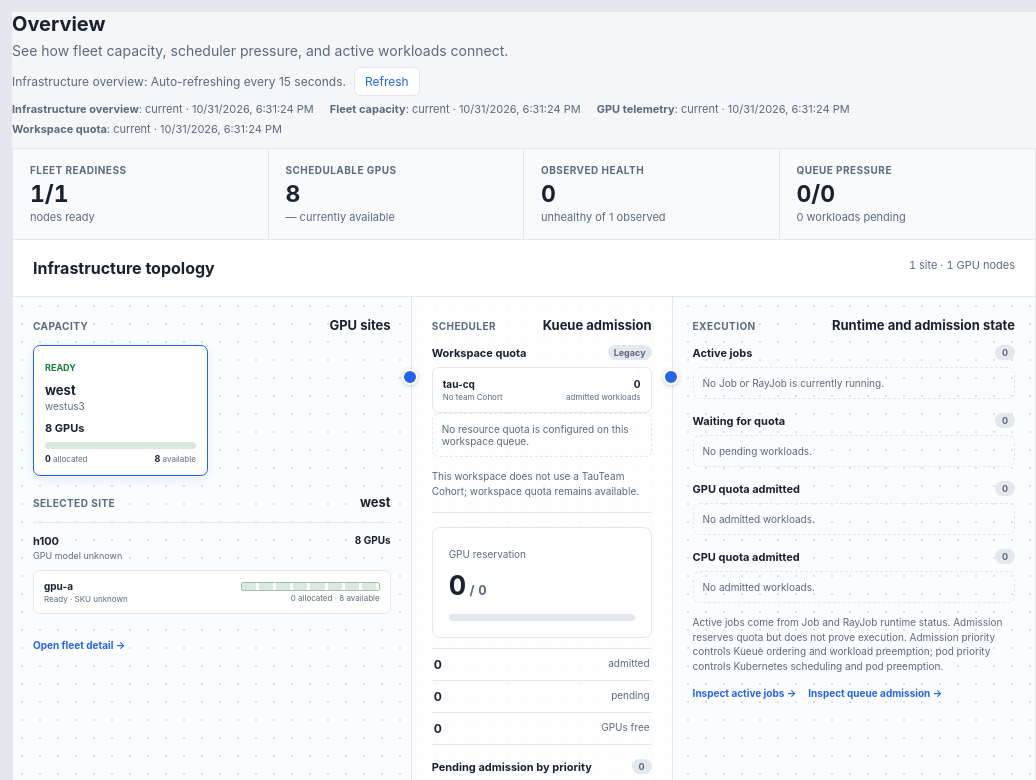
Test case: Platform overview › keeps stale source data visible when a coordinated refresh fails
This screenshot has width=1036, height=780.
Expected: the heading "Infrastructure topology" is shown, [33, 258, 215, 278]
Expected: the text "unhealthy of 1 observed" is shown, [541, 210, 666, 224]
Click the button with aria-label "Refresh Infrastructure overview" at (387, 82), box [354, 67, 420, 96]
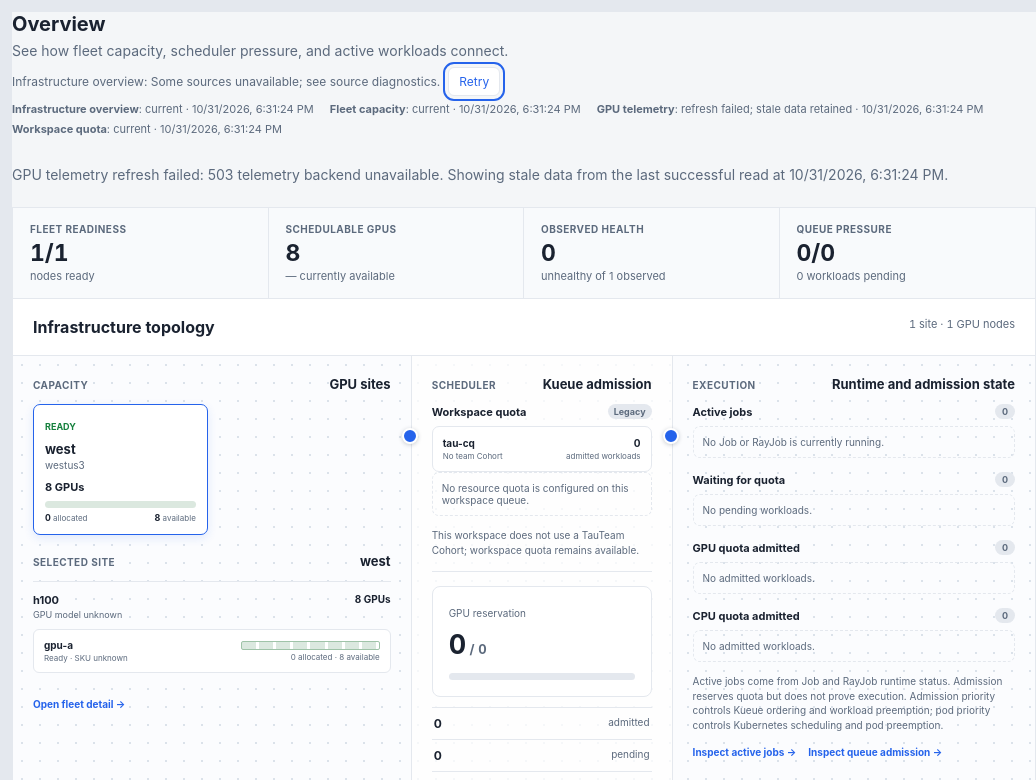
Expected: the text "unhealthy of 1 observed" is shown, [541, 269, 666, 283]
Expected: the text "GPU telemetry refresh failed: 503 telemetry backend unavailable" is shown, [12, 166, 948, 183]
Expected: the element named "Infrastructure overview source freshness" shows "GPU telemetry: refresh failed; stale data retained", [12, 102, 1035, 136]
